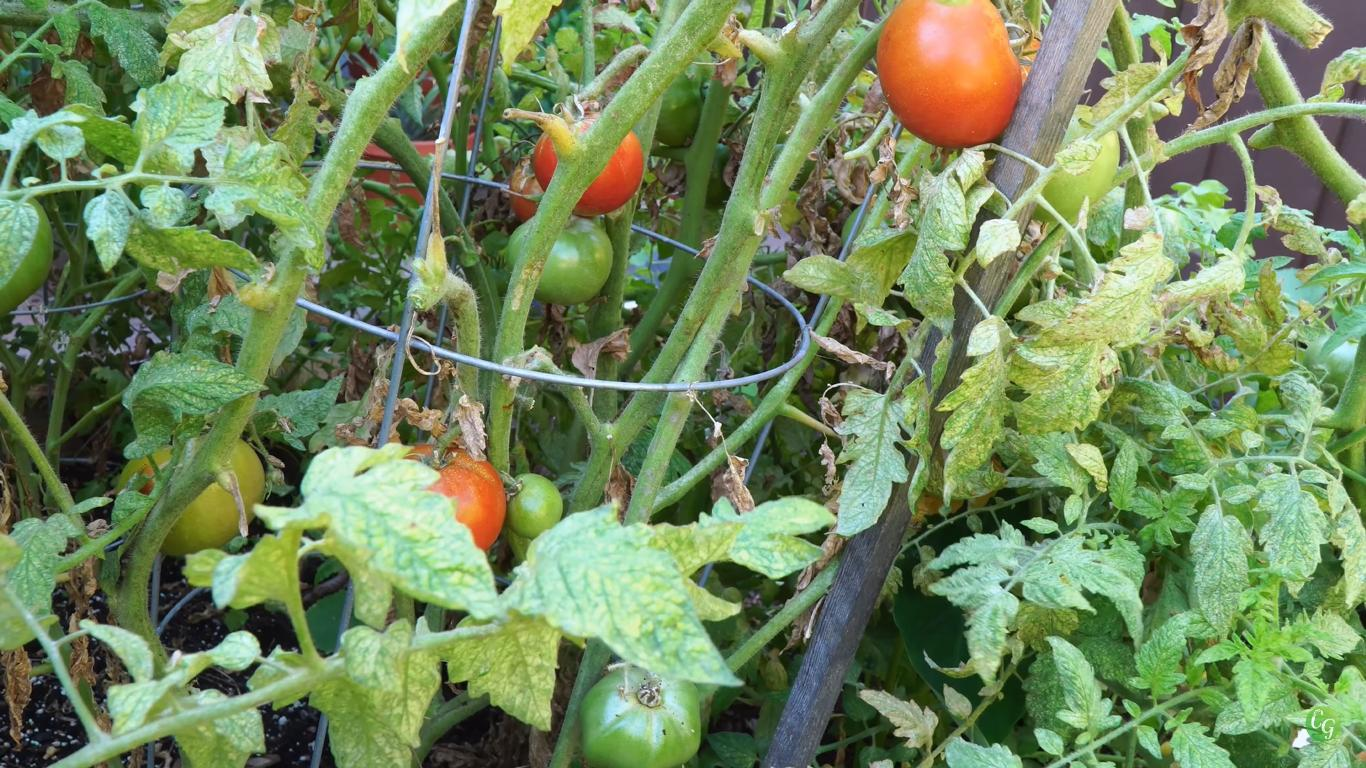Spider Mites: (502, 498, 744, 689), (251, 439, 501, 621), (897, 147, 988, 338), (934, 316, 1019, 511), (214, 134, 325, 273), (1013, 296, 1121, 436), (445, 607, 562, 734), (341, 618, 442, 747), (1068, 228, 1176, 336), (707, 493, 838, 581), (835, 388, 910, 539), (120, 346, 269, 416), (129, 208, 267, 282), (175, 12, 274, 106), (1188, 502, 1256, 636), (1254, 472, 1324, 600), (1059, 550, 1145, 652), (131, 72, 229, 155), (0, 512, 76, 619), (1043, 634, 1124, 732), (86, 0, 164, 88), (1126, 606, 1194, 696), (964, 584, 1020, 686), (856, 685, 939, 751), (781, 252, 877, 308), (925, 520, 1028, 572), (1328, 477, 1366, 609), (900, 372, 934, 517), (1159, 248, 1248, 301), (1164, 707, 1239, 768), (1029, 429, 1092, 496), (1119, 372, 1194, 428), (0, 196, 42, 293), (1024, 562, 1098, 616), (84, 190, 128, 276), (1263, 205, 1327, 256), (1274, 367, 1322, 434), (1252, 258, 1289, 329), (1107, 434, 1140, 512), (975, 218, 1022, 271), (1108, 439, 1140, 512), (138, 183, 187, 228), (930, 335, 956, 397), (53, 10, 81, 57), (1212, 402, 1259, 429), (1222, 482, 1260, 507), (1170, 471, 1210, 492), (1160, 422, 1193, 443), (1299, 468, 1327, 485)
